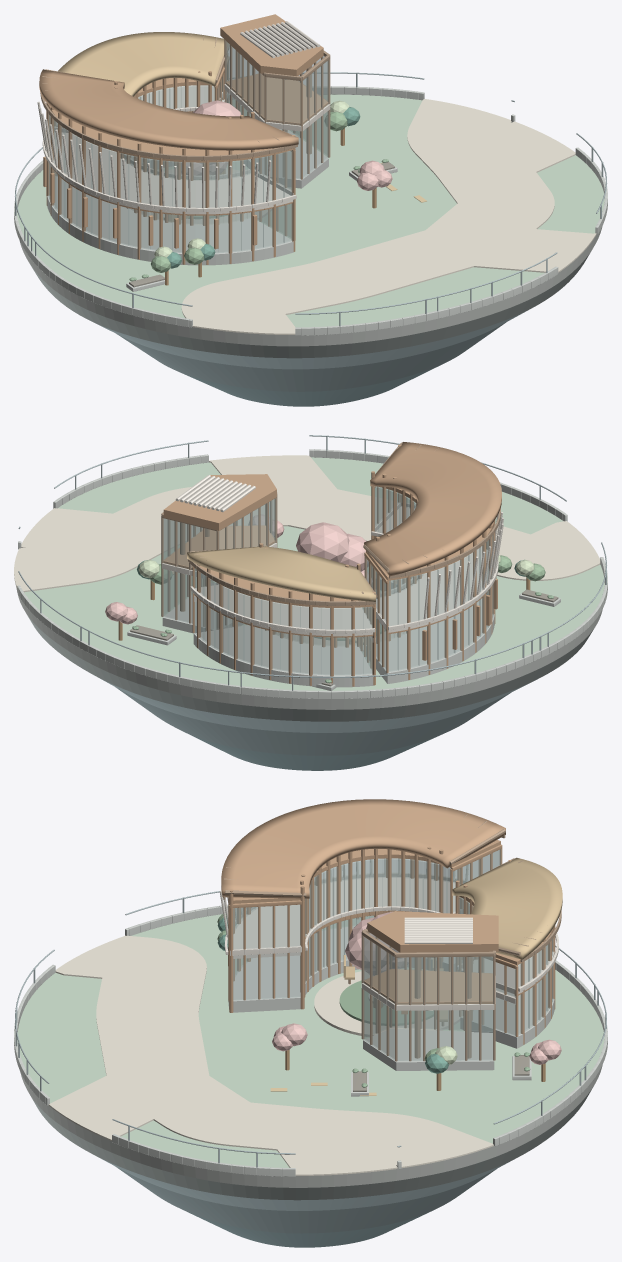
3 renders of one model, top to bottom at view 1: azimuth 30°, elevation 25°; view 2: azimuth 150°, elevation 25°; view 3: azimuth 270°, elevation 25°, orthographic. The views are drawn at different scales.
Parts seen in each view (by area): view 1: ROLE_terrain_Components__grass, ROLE_paving_Components__paveLight, ROLE_building_Components__careGlass, ROLE_building_Components__careRoof, ROLE_building_Components__careLinen, ROLE_roof_Components__careRoof, ROLE_building_Components__stone2, ROLE_roof_Components__warmwood, ROLE_terrain_Components__cliff2, ROLE_terrain_Components__stone2, ROLE_terrain_Components__cliff3, ROLE_rails_Components__stone2 (+8 smaller); view 2: ROLE_terrain_Components__grass, ROLE_building_Components__careGlass, ROLE_paving_Components__paveLight, ROLE_building_Components__careRoof, ROLE_roof_Components__careRoof, ROLE_building_Components__careLinen, ROLE_building_Components__stone2, ROLE_rails_Components__stone2, ROLE_terrain_Components__cliff2, ROLE_terrain_Components__cliff3, ROLE_terrain_Components__stone2, ROLE_roof_Components__warmwood (+10 smaller); view 3: ROLE_terrain_Components__grass, ROLE_paving_Components__paveLight, ROLE_building_Components__careGlass, ROLE_roof_Components__careRoof, ROLE_building_Components__careRoof, ROLE_building_Components__careLinen, ROLE_building_Components__stone2, ROLE_terrain_Components__stone2, ROLE_roof_Components__warmwood, ROLE_terrain_Components__cliff3, ROLE_terrain_Components__cliff2, ROLE_building_Components__copperdark (+7 smaller).
Part boxes in pixels (x1,y1,x2,y2): ROLE_terrain_Components__grass: (17,94,604,327); ROLE_paving_Components__paveLight: (132,99,596,334); ROLE_building_Components__careGlass: (48,40,328,253); ROLE_building_Components__careRoof: (43,53,328,264); ROLE_building_Components__careLinen: (37,21,330,214); ROLE_roof_Components__careRoof: (39,14,323,150); ROLE_building_Components__stone2: (47,129,328,265); ROLE_roof_Components__warmwood: (58,32,227,96); ROLE_terrain_Components__cliff2: (117,322,505,391); ROLE_terrain_Components__stone2: (19,226,602,346); ROLE_terrain_Components__cliff3: (31,252,590,358); ROLE_rails_Components__stone2: (14,86,607,335); ROLE_terrain_Components__grass: (24,457,604,690); ROLE_building_Components__careGlass: (163,486,493,675); ROLE_paving_Components__paveLight: (14,455,600,651); ROLE_building_Components__careRoof: (163,444,497,686); ROLE_roof_Components__careRoof: (163,442,501,576); ROLE_building_Components__careLinen: (162,475,503,642); ROLE_building_Components__stone2: (162,577,494,687); ROLE_rails_Components__stone2: (17,449,607,698); ROLE_terrain_Components__cliff2: (115,687,510,755); ROLE_terrain_Components__cliff3: (26,614,593,721); ROLE_terrain_Components__stone2: (16,586,602,709); ROLE_roof_Components__warmwood: (187,546,375,601); ROLE_terrain_Components__grass: (17,914,604,1167); ROLE_paving_Components__paveLight: (48,935,493,1175); ROLE_building_Components__careGlass: (233,849,553,1061); ROLE_roof_Components__careRoof: (221,799,505,952); ROLE_building_Components__careRoof: (228,840,555,1044); ROLE_building_Components__careLinen: (219,858,558,1010); ROLE_building_Components__stone2: (228,926,554,1070); ROLE_terrain_Components__stone2: (20,1065,602,1187); ROLE_roof_Components__warmwood: (452,857,562,959); ROLE_terrain_Components__cliff3: (30,1086,593,1200); ROLE_terrain_Components__cliff2: (115,1166,496,1233); ROLE_building_Components__copperdark: (361,928,495,1061).
Size of the model in its own units: 29.84 by 15.15 by 27.84.
